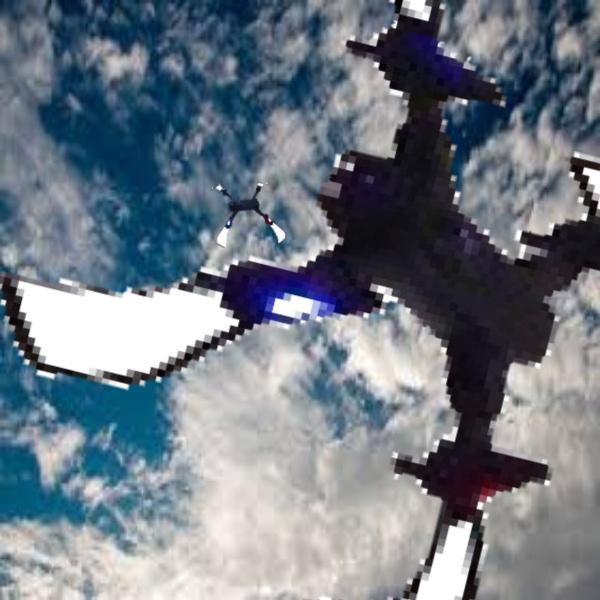drone: (208, 176, 287, 255)
